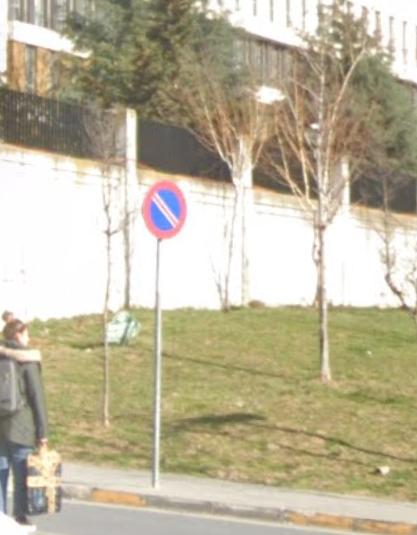nopark: (144, 182, 185, 238)
